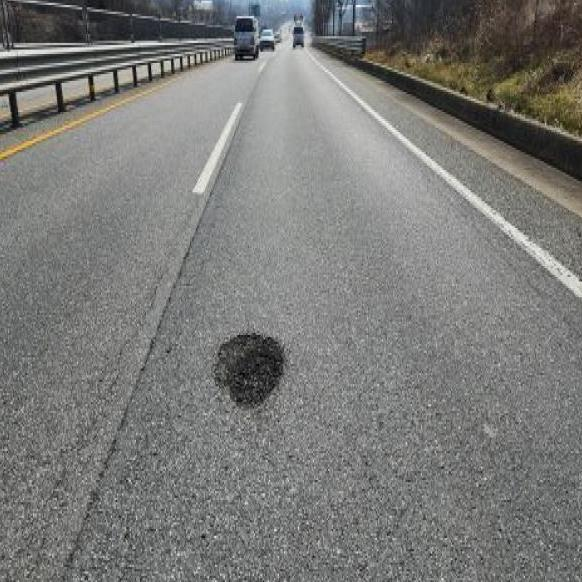pothole: (200, 287, 297, 442)
